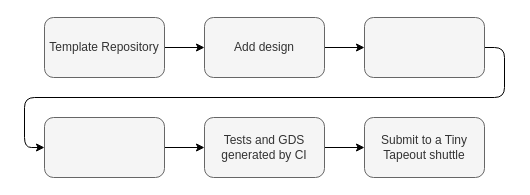
Image size: 530x195. Some labels were removed from this diagram. The shapes that lost their labels are listed below. From the top down, each one's centre as x and y in pixels, then its label:
At point (424, 47): "Add documentation".
At point (104, 147): "Commit".
